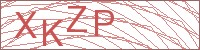K: (42, 18, 65, 46)
P: (94, 9, 115, 36)
X: (14, 11, 38, 39)
Z: (67, 5, 89, 33)
